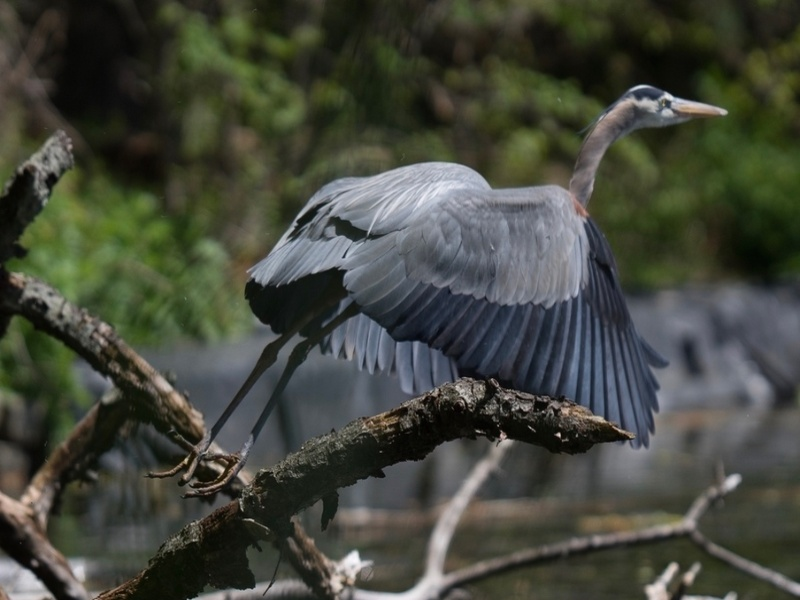heron: (148, 81, 728, 498)
